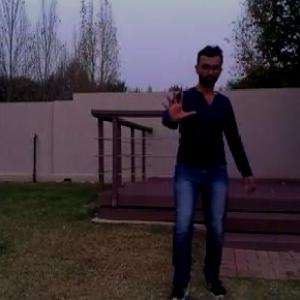follow_hand: (158, 84, 199, 124)
